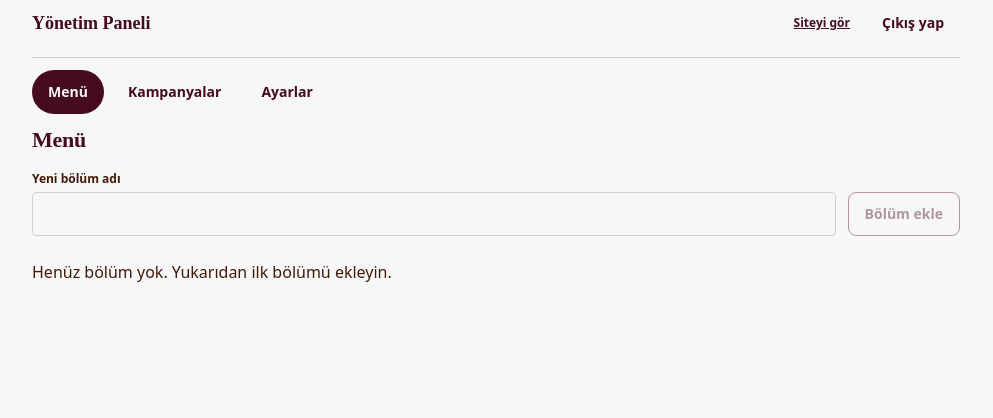
Test: admin panel › adds a category from its name alone and leaves it collapsed
The width and height of the screenshot is (993, 418).
Type "Soğuk İçecekler" into the field labelled "Yeni bölüm adı" at (434, 214), box left=32, top=192, right=836, bottom=236
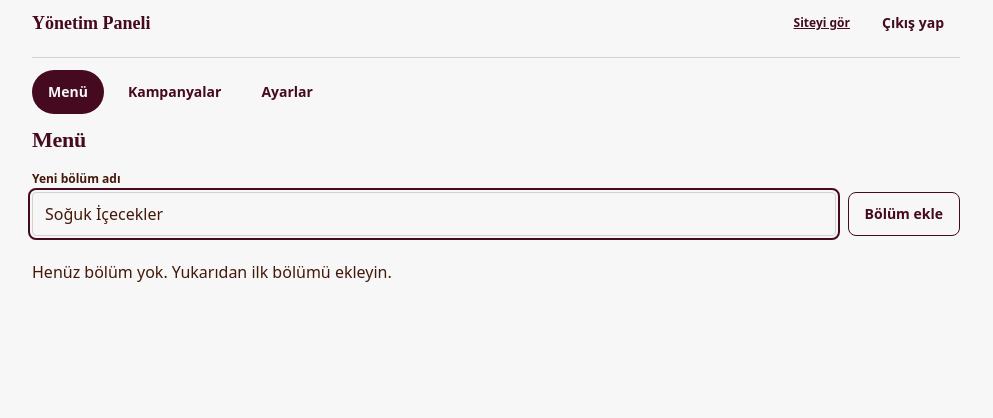
Click the button "Bölüm ekle" at (904, 214), box left=848, top=192, right=960, bottom=236
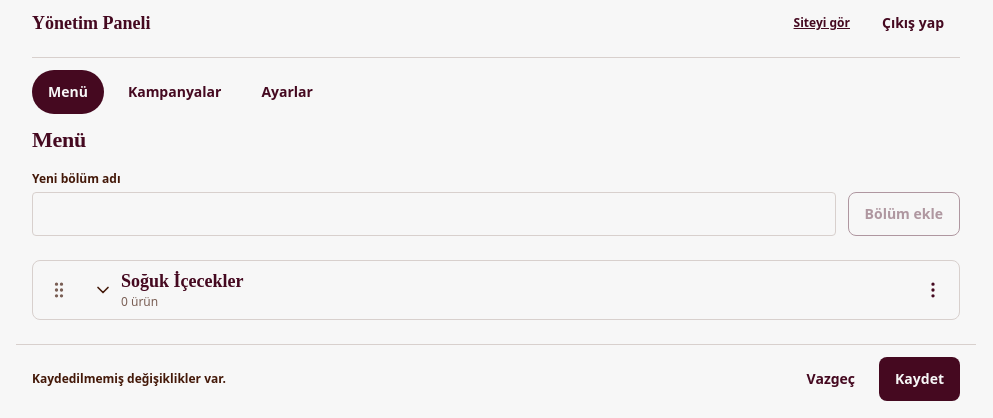
Expected: the button "Kaydet" is enabled, left=879, top=357, right=960, bottom=401
